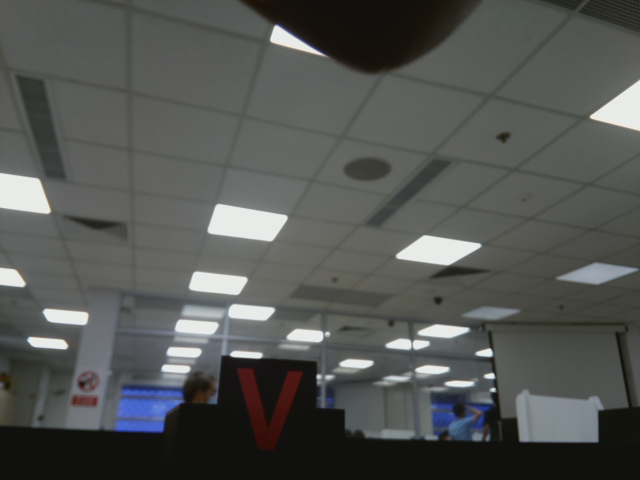v: (217, 362, 312, 452)
